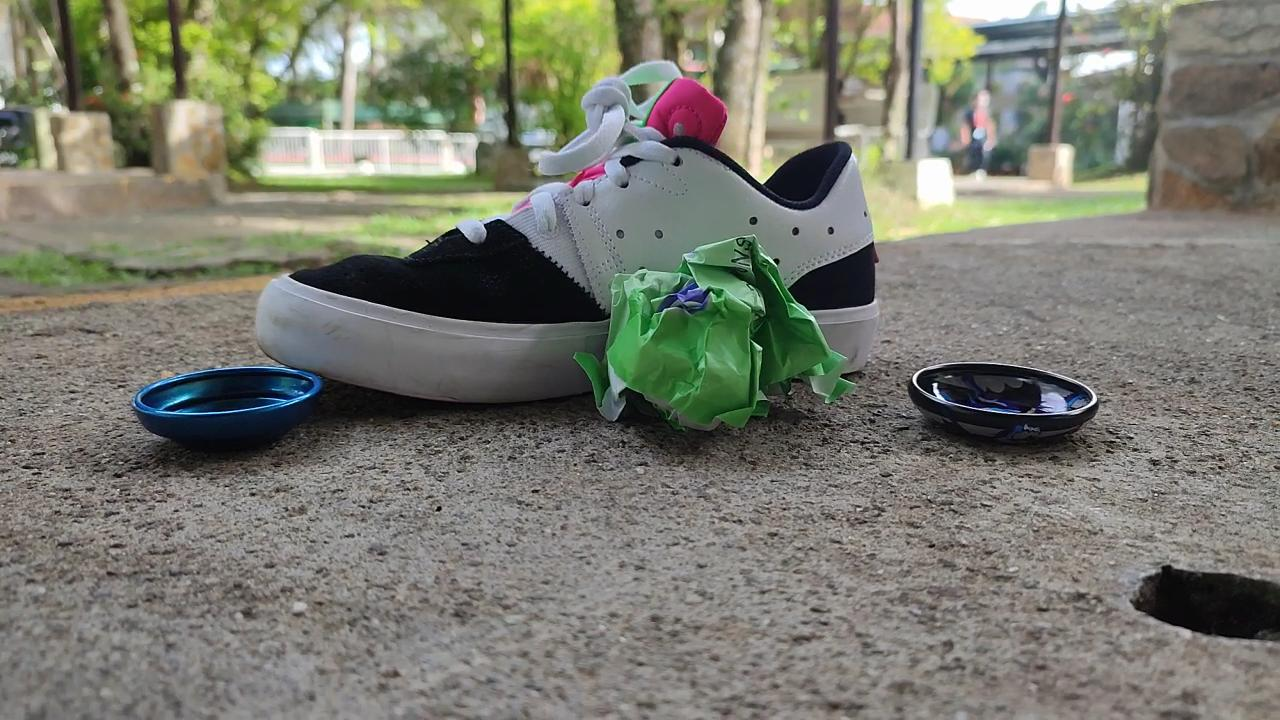Paper: (592, 210, 870, 458)
